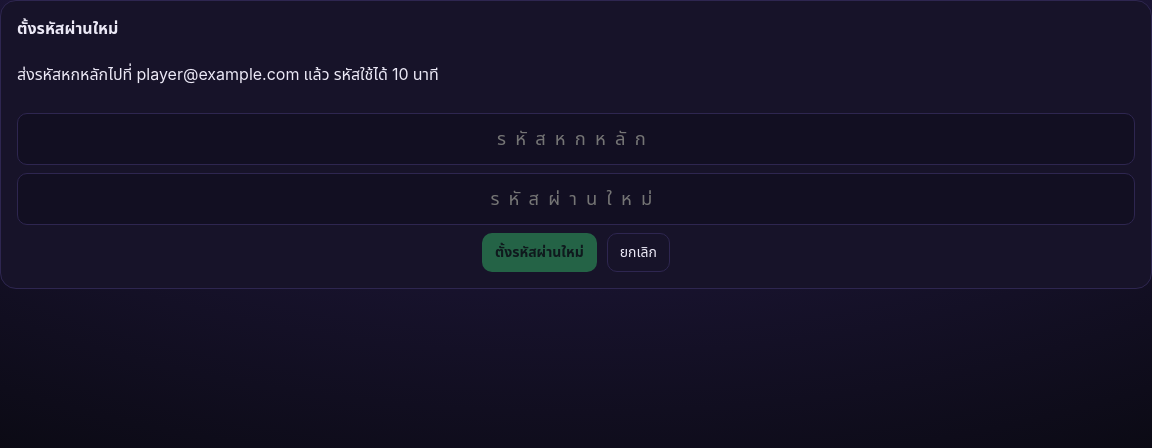
Test: ตั้งรหัสผ่านใหม่ไม่ได้จนกว่ารหัสจะครบหกหลัก
This screenshot has width=1152, height=448.
Expected: the button "ตั้งรหัสผ่านใหม่" is disabled, [482,233,597,272]
Type "123456" into the field labelled "รหัสหกหลัก" at (576, 139), box [17,113,1135,165]
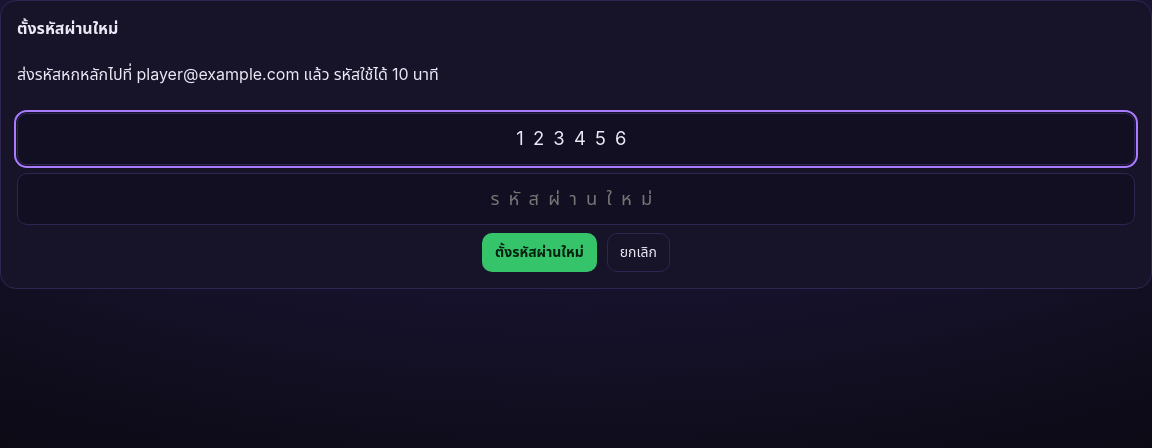
Expected: the button "ตั้งรหัสผ่านใหม่" is enabled, [482,233,597,272]
